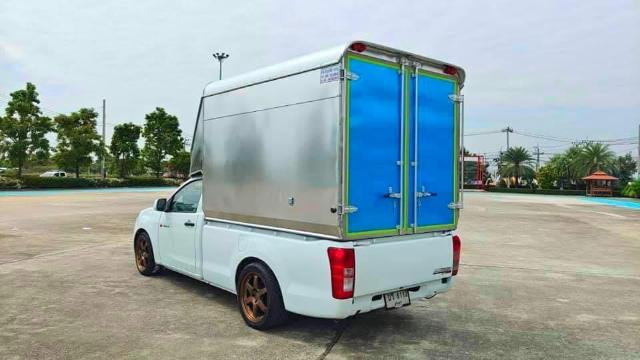pickup-truck: (125, 35, 473, 333)
